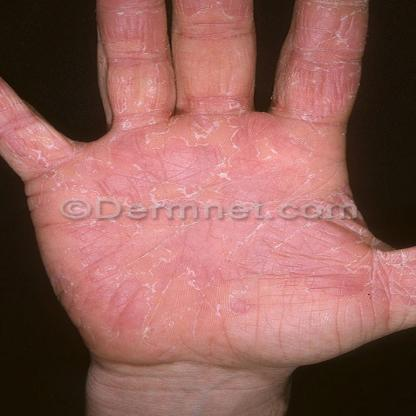Eczema: (102, 0, 258, 132), (190, 131, 365, 244), (45, 191, 176, 287), (291, 0, 381, 130), (186, 248, 369, 310), (101, 292, 221, 352), (0, 91, 77, 183), (366, 236, 416, 303)
